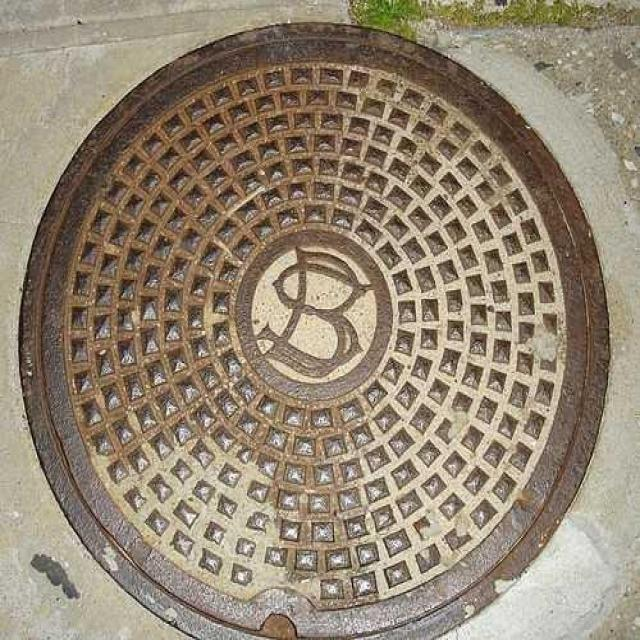manhole: (20, 26, 607, 638)
